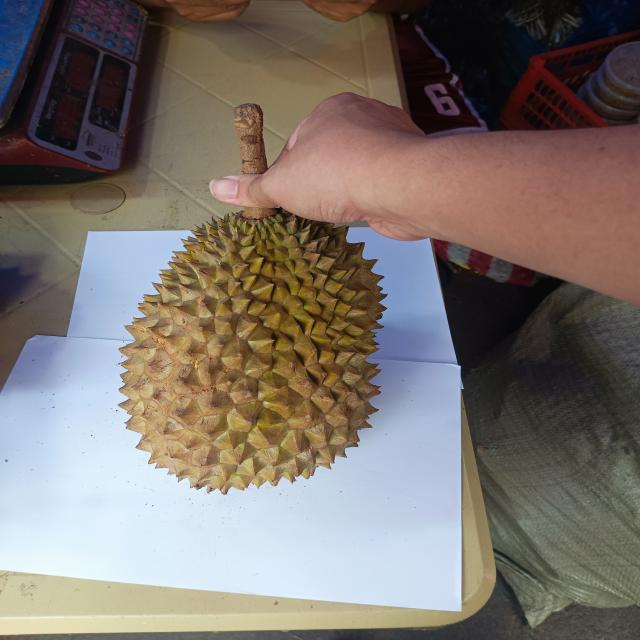mature: (114, 199, 386, 491)
